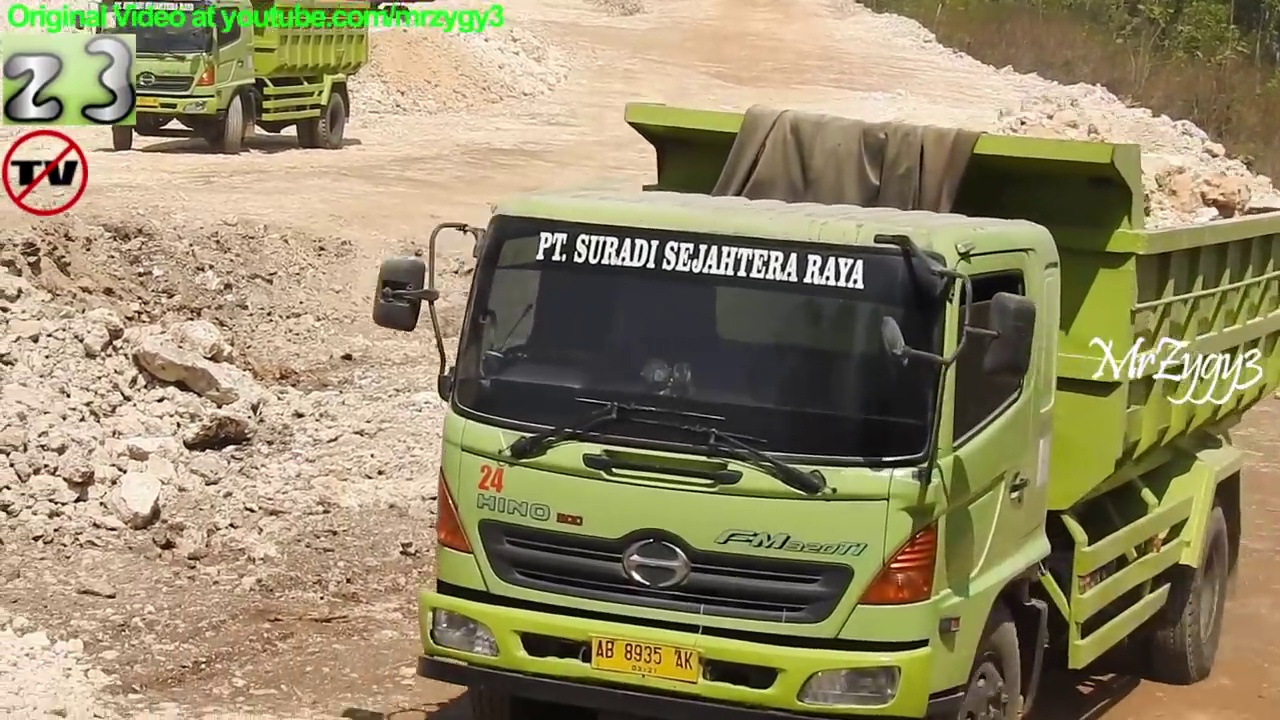truck: (369, 96, 1280, 720), (71, 1, 379, 152)
